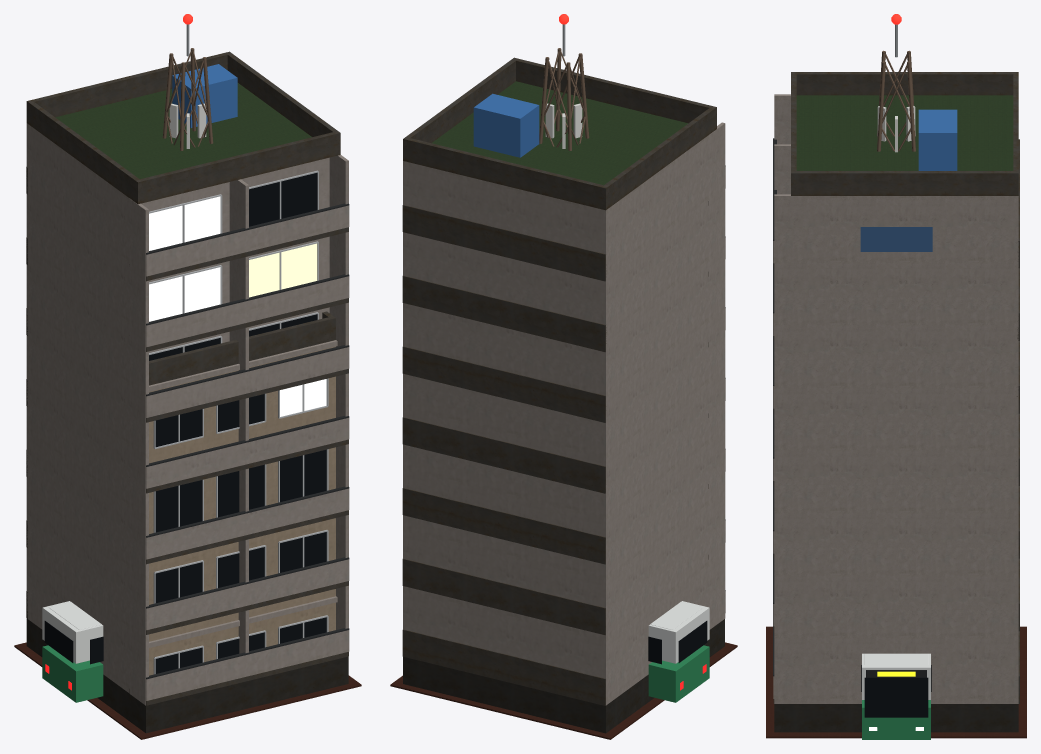
File: map.glb
3 views of the same model, side by side, from view 1: azimuth 30°, elevation 25°; view 2: azimuth 150°, elevation 25°; view 3: azimuth 270°, elevation 25° (orthographic). The views are drawn at different scales.
Visible parts, largest first — view 1: apt-seg, school-seg, bus, tower, playground; view 2: apt-seg, bus, tower, playground; view 3: apt-seg, bus, playground, tower.
Part boxes in pixels (x1,y1,x2,y2): apt-seg: (26,51,349,733); school-seg: (149,311,337,675); bus: (42,601,103,702); tower: (162,14,213,150); playground: (14,642,361,739); apt-seg: (402,57,725,733); bus: (648,601,709,702); tower: (539,14,589,150); playground: (390,642,737,739); apt-seg: (773,72,1019,732); bus: (861,653,931,739); playground: (766,626,1026,738); tower: (877,14,915,152).
Size of the model in its own units: 11.11 by 26.73 by 9.45.
57 materials, 8 textured.
